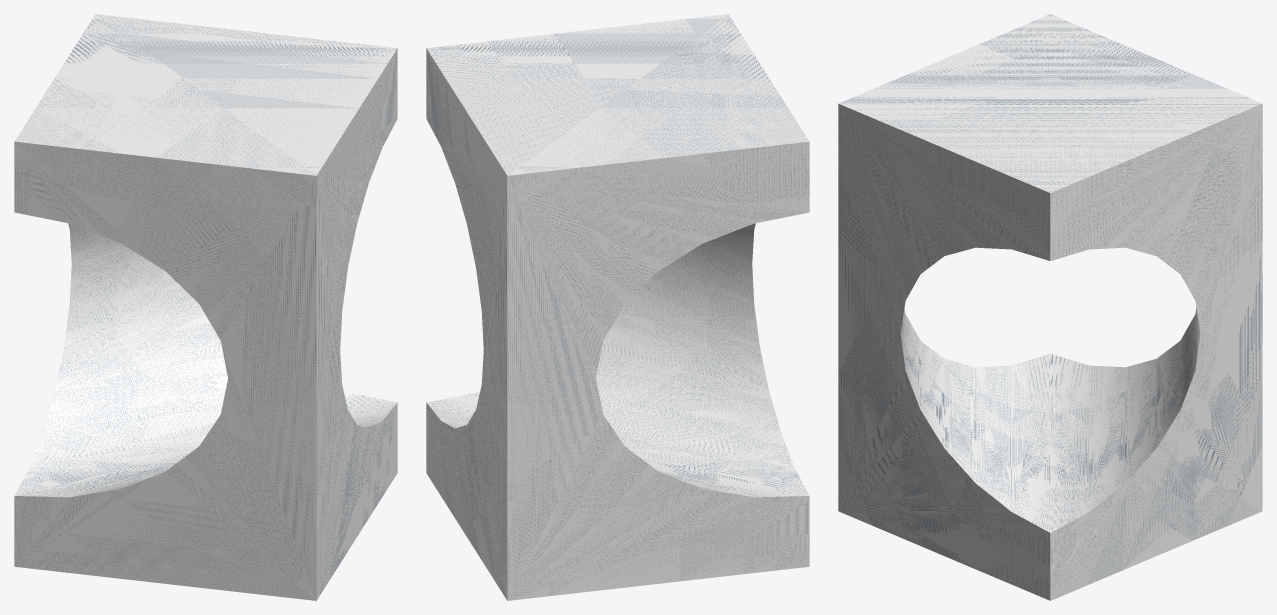
3 renders of one model, left to right at view 1: azimuth 30°, elevation 25°; view 2: azimuth 150°, elevation 25°; view 3: azimuth 270°, elevation 25°, orthographic. The views are drawn at different scales.
Parts seen in each view (by area): view 1: Model; view 2: Model; view 3: Model.
Boxes of the visible parts, box(x1,y1,x2,y2) form: Model: box(14, 14, 397, 600); Model: box(426, 14, 809, 600); Model: box(838, 14, 1262, 600).
Bounding box in the file's own units: 5.66 × 6 × 5.66.
